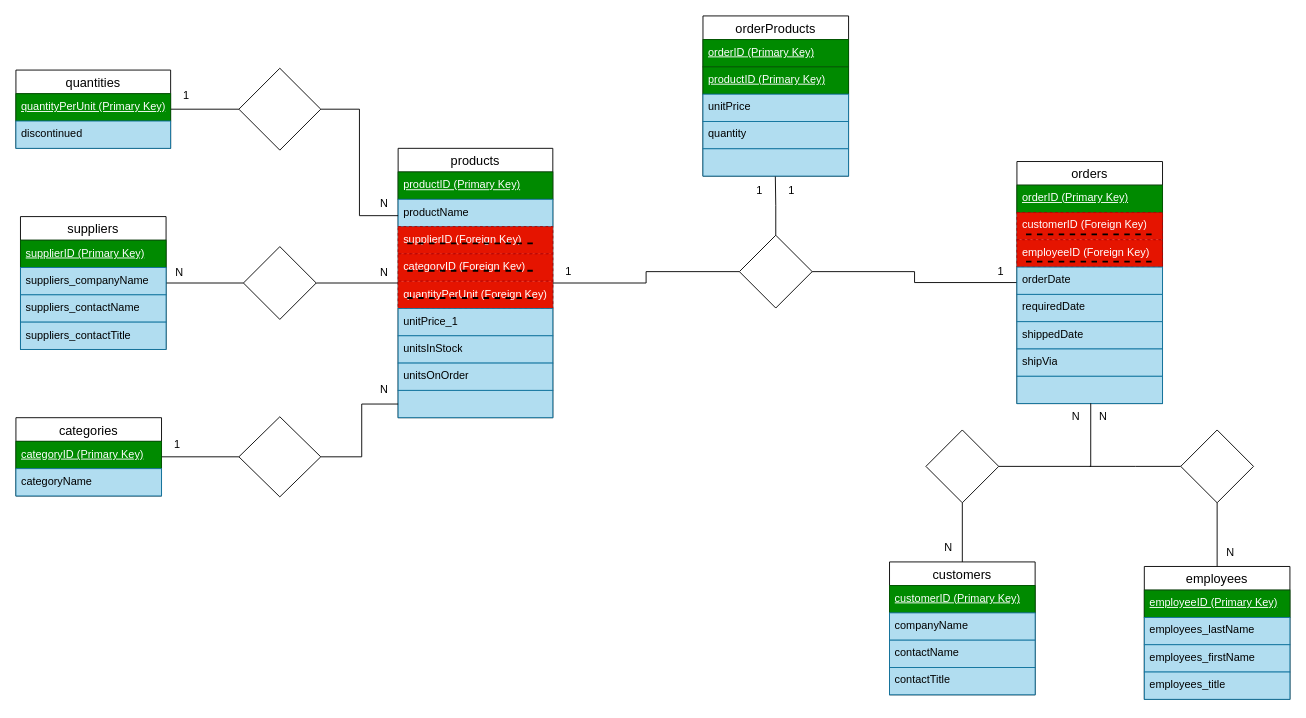
Some shapes in this 1306 by 718 pixel diagram are drawn without their labels. Each missing label, with the centre of its shape:
"characterize" belongs at [775,271].
"discount" belongs at [775,162].
"Freight" belongs at [1089,389].
"Order" belongs at [962,466].
"reorderLevel" belongs at [475,403].
"sets_category" belongs at [279,456].
"sets_quantity" belongs at [279,108].
"supplies" belongs at [279,282].
"Work on" belongs at [1217,466].
